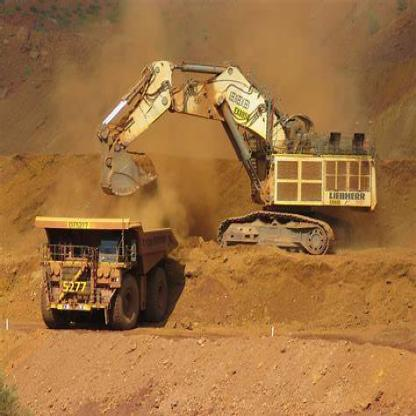excavator: (94, 41, 382, 259)
